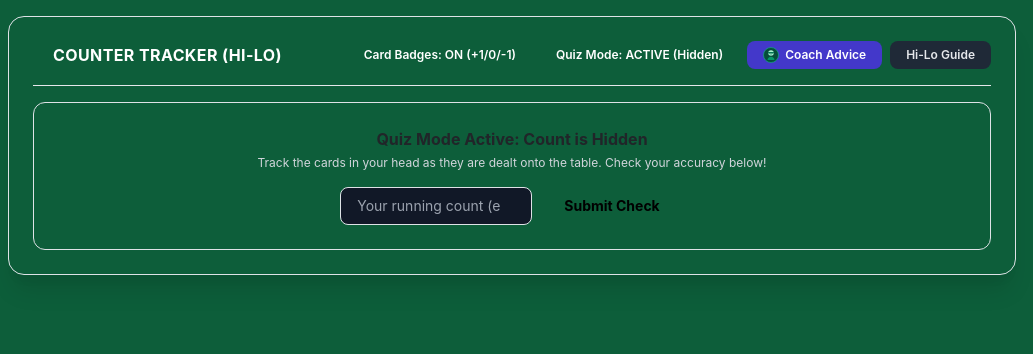
CardCountingTrainer component › evaluates quiz mode answer submission correctly
Expected: the text "Quiz Mode Active: Count is Hidden" is shown, [376,129,648,149]
Type "4" into the number field with placeholder "Your running count (e.g. 2, -1)" at (436, 206), box [340,187,532,225]
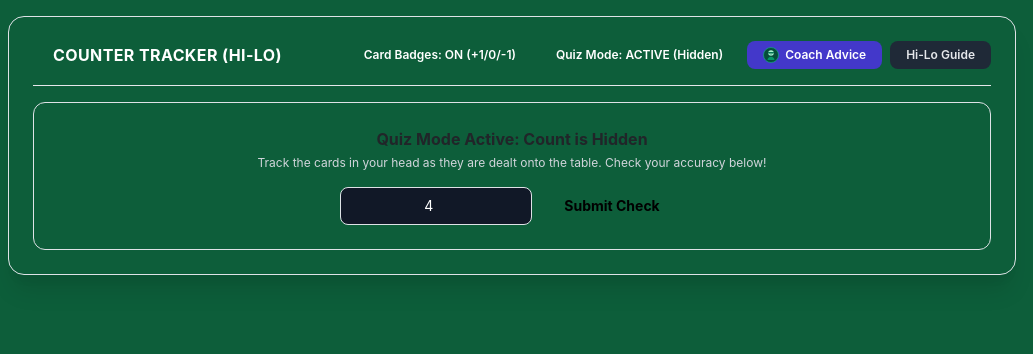
Click the button "Submit Check" at (612, 206), box [540,188,684,224]
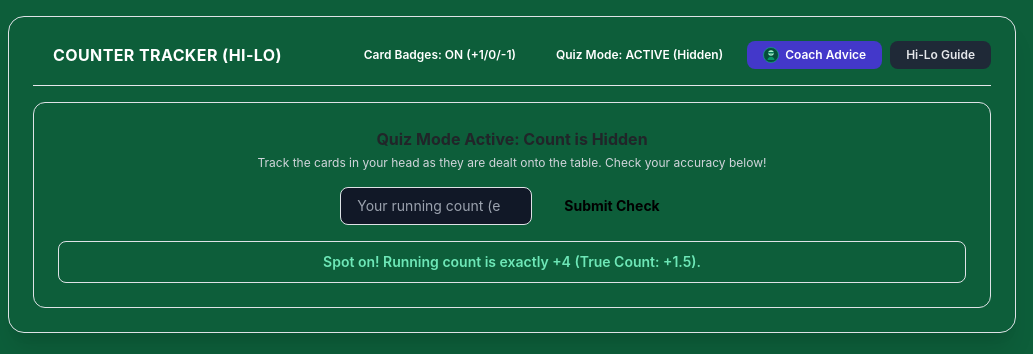
Expected: the text "Spot on! Running count is exactly +4 (True Count: +1.5)." is shown, [58,241,966,283]
